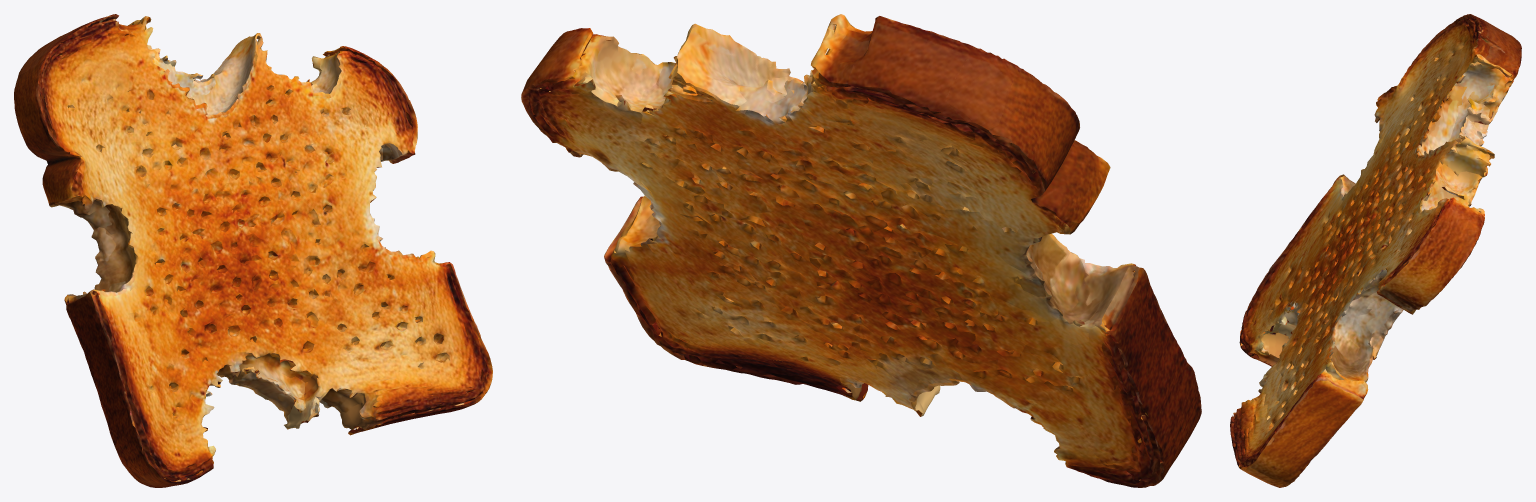
Rendered from lollie_bait.glb.
3 views of the same model, side by side, from view 1: azimuth 30°, elevation 25°; view 2: azimuth 150°, elevation 25°; view 3: azimuth 270°, elevation 25° (orthographic). The views are drawn at different scales.
Visible parts, largest first — view 1: tmp7ikv8kn0.ply; view 2: tmp7ikv8kn0.ply; view 3: tmp7ikv8kn0.ply.
Boxes of the visible parts, bbox=[...] form: tmp7ikv8kn0.ply: bbox=[14, 14, 492, 487]; tmp7ikv8kn0.ply: bbox=[521, 14, 1201, 487]; tmp7ikv8kn0.ply: bbox=[1230, 14, 1521, 487].
Size of the model in its own units: 1.96 by 1.96 by 1.46.
1 material, 1 textured.
